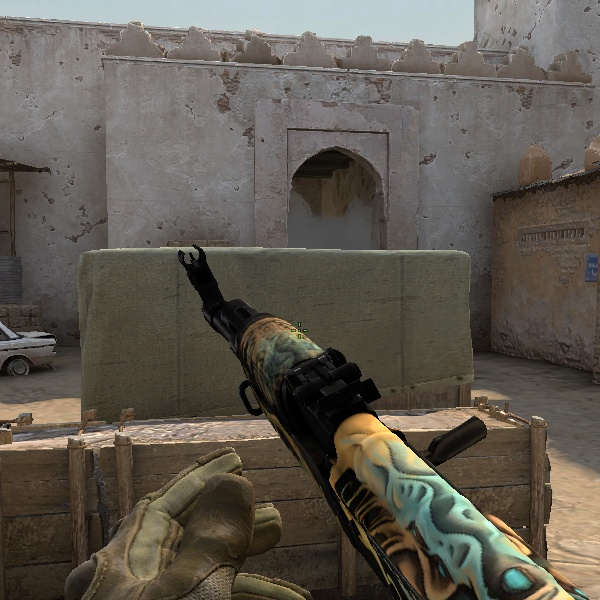t_head: (219, 318, 396, 470)
